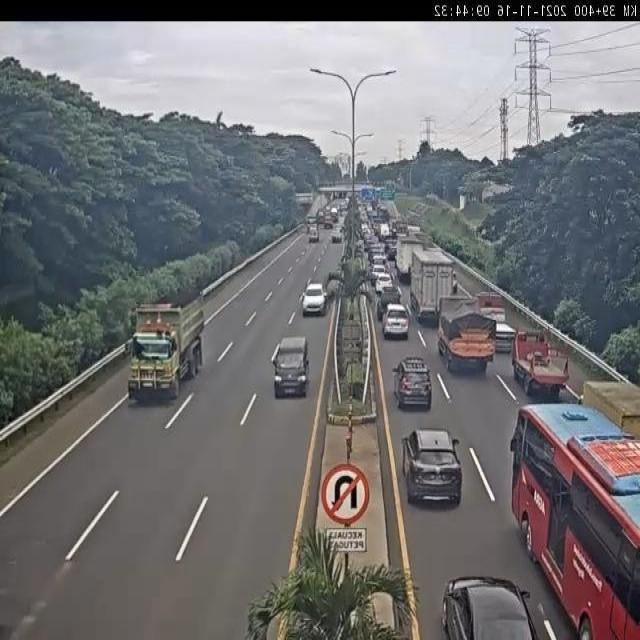Bus: (508, 404, 640, 637)
Car: (441, 574, 543, 639), (402, 426, 464, 507), (512, 329, 568, 398), (392, 356, 433, 411), (382, 302, 410, 340), (301, 281, 328, 316), (374, 273, 394, 297), (371, 264, 387, 284), (307, 225, 319, 243), (331, 227, 342, 243)
Truck: (126, 294, 203, 398), (438, 296, 490, 371), (410, 251, 452, 322)
Van: (272, 335, 310, 397)
